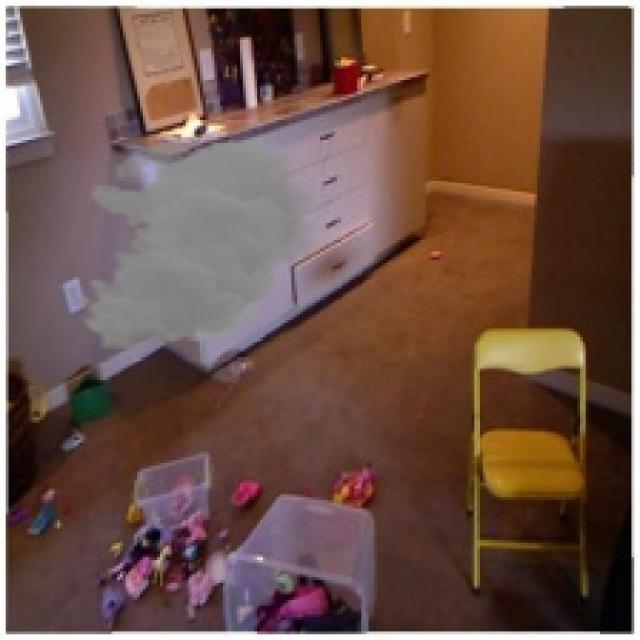smoke: (74, 134, 329, 352)
